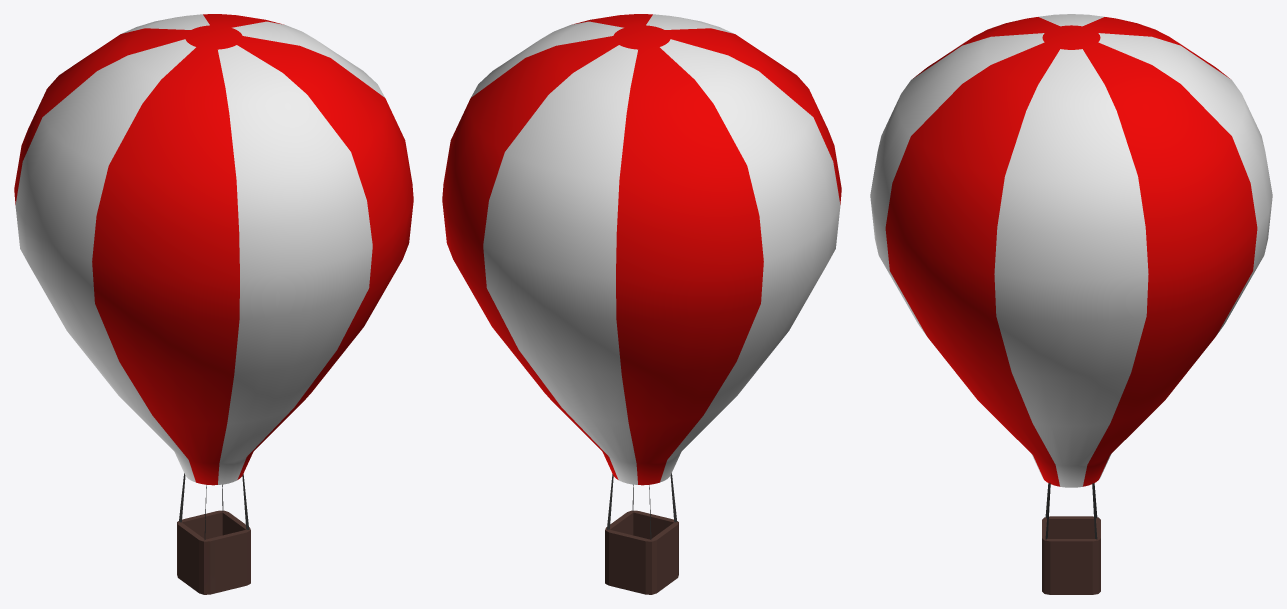
File: HotAirBalloon.fbx
3 views of the same model, side by side, from view 1: azimuth 30°, elevation 25°; view 2: azimuth 150°, elevation 25°; view 3: azimuth 270°, elevation 25° (orthographic).
Visible parts, largest first — view 1: Circle; view 2: Circle; view 3: Circle.
Part boxes in pixels (box(x1,y1,x2,y2)): Circle: box(14, 14, 413, 594); Circle: box(442, 14, 841, 594); Circle: box(870, 14, 1272, 594).
Bounding box in the file's own units: 1362 × 2033 × 1362.
